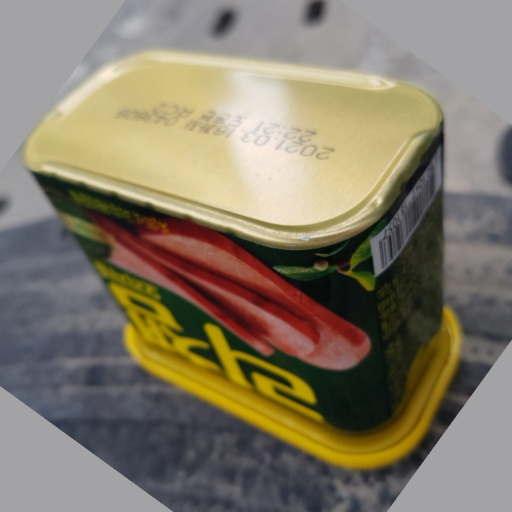Metal_2: (24, 48, 468, 468)
